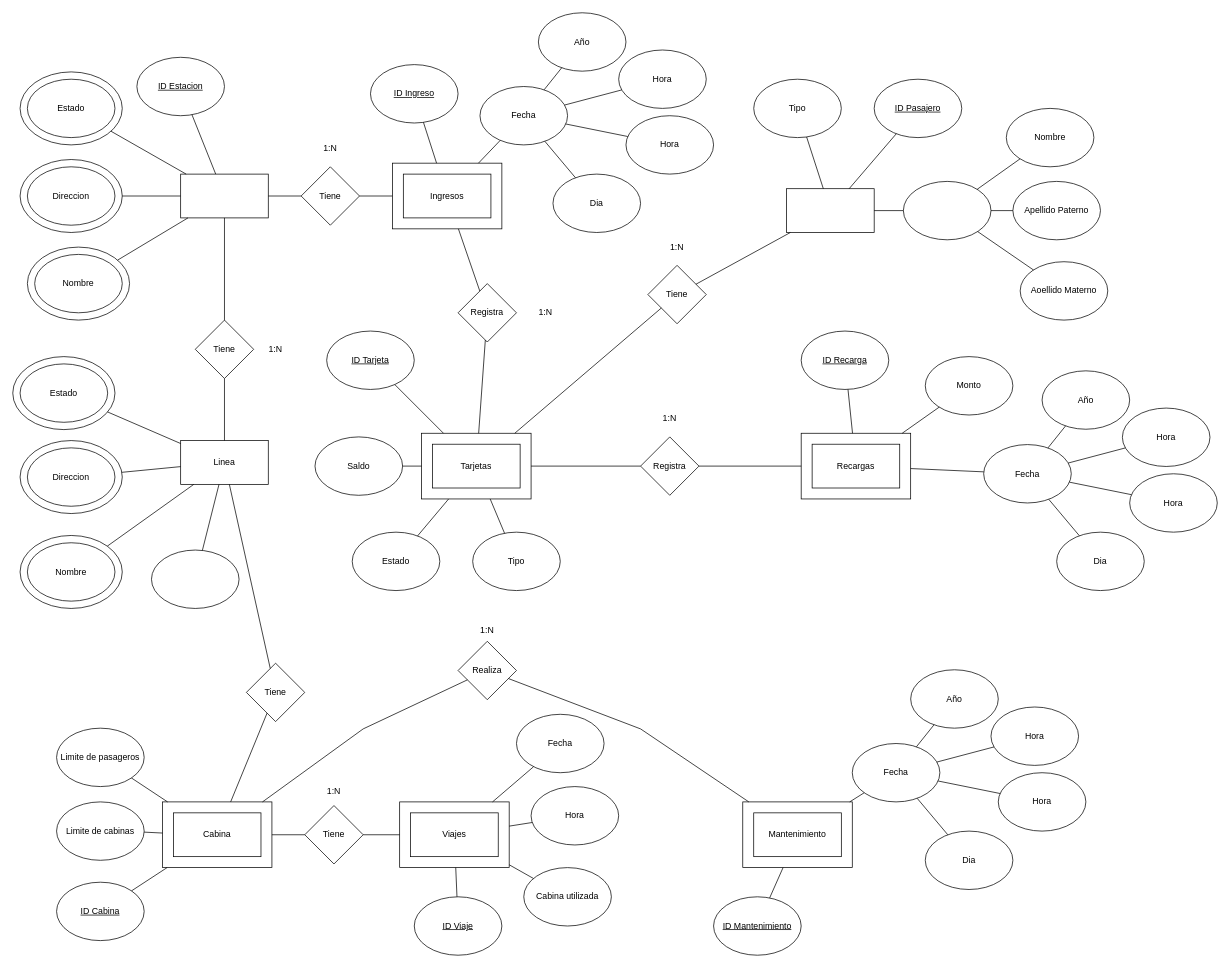
The diagram is 1230 pixels wide and 968 high, and some of its shapes have lost their labels. Here are the shapes that lost their labels. From the top down, the box of each, then its label:
(180, 173, 268, 218): Estacion
(786, 188, 874, 233): Psajero
(903, 181, 991, 240): Nombre completo
(151, 549, 239, 608): ID Linea
